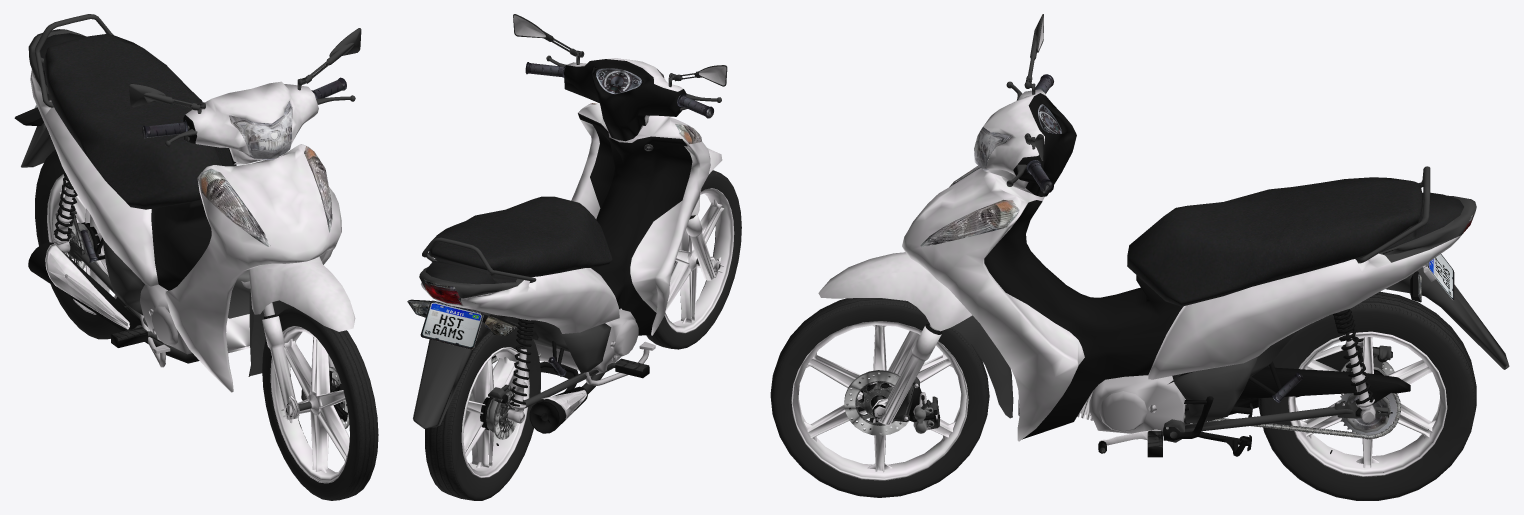
File: HandoTwix.fbx
The picture shows the model from 3 angles, left to right: view 1: azimuth 30°, elevation 25°; view 2: azimuth 150°, elevation 25°; view 3: azimuth 270°, elevation 25°; orthographic projection. The views are drawn at different scales.
Parts seen in each view (by area): view 1: bodyMesh, handleMesh, frontWheelMesh, rearWheelMesh, swingArmMesh, dirtGuardMesh, tailSection; view 2: bodyMesh, rearWheelMesh, handleMesh, frontWheelMesh, tailSection, swingArmMesh, plateMesh, dirtGuardMesh, turnSignalRight; view 3: bodyMesh, rearWheelMesh, frontWheelMesh, handleMesh, swingArmMesh, dirtGuardMesh, tailSection.
Part boxes in pixels (left/top/right/bottom): bodyMesh: left=28, top=14, right=341, bottom=392; handleMesh: left=129, top=28, right=361, bottom=376; frontWheelMesh: left=262, top=306, right=378, bottom=500; rearWheelMesh: left=35, top=150, right=133, bottom=339; swingArmMesh: left=53, top=171, right=147, bottom=326; dirtGuardMesh: left=262, top=314, right=343, bottom=420; tailSection: left=21, top=122, right=55, bottom=167; bodyMesh: left=419, top=103, right=710, bottom=433; rearWheelMesh: left=425, top=320, right=540, bottom=500; handleMesh: left=513, top=14, right=727, bottom=215; frontWheelMesh: left=646, top=170, right=741, bottom=349; tailSection: left=413, top=308, right=508, bottom=428; swingArmMesh: left=488, top=318, right=598, bottom=426; plateMesh: left=420, top=300, right=483, bottom=349; dirtGuardMesh: left=686, top=215, right=720, bottom=280; turnSignalRight: left=482, top=314, right=518, bottom=336; bodyMesh: left=902, top=165, right=1476, bottom=457; rearWheelMesh: left=1258, top=291, right=1476, bottom=500; frontWheelMesh: left=770, top=298, right=989, bottom=497; handleMesh: left=818, top=14, right=1076, bottom=418; swingArmMesh: left=1184, top=309, right=1410, bottom=439; dirtGuardMesh: left=872, top=323, right=942, bottom=433; tailSection: left=1386, top=267, right=1509, bottom=369.
Size of the model in its own units: 0.819 by 1.29 by 2.06.
